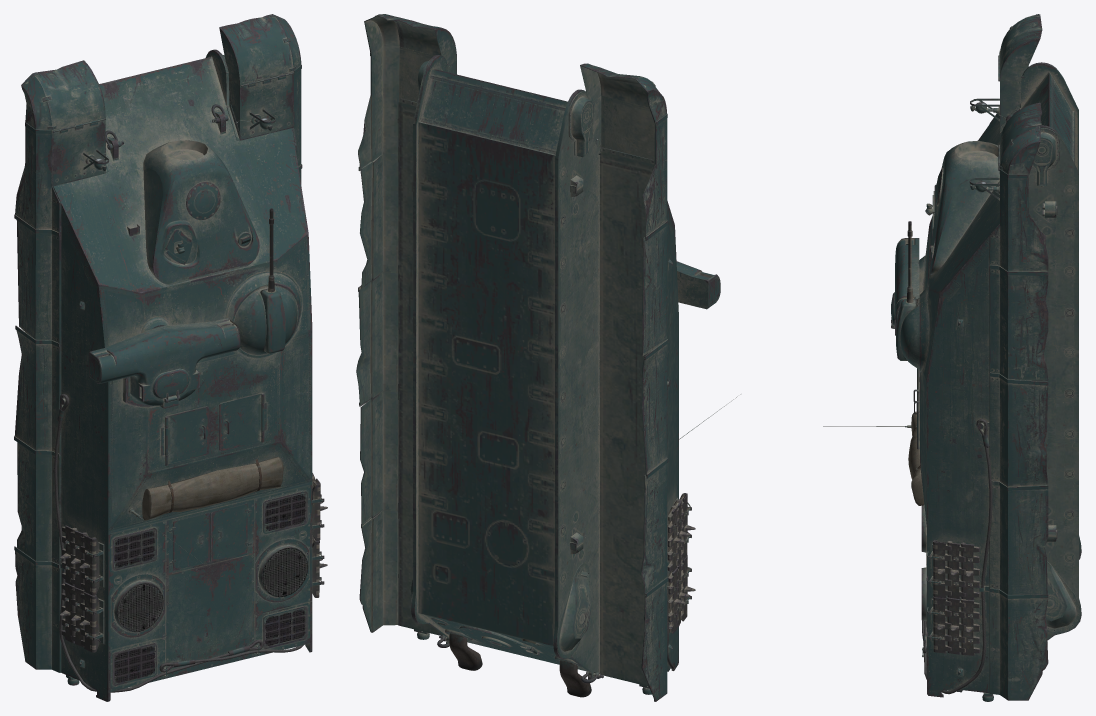
Rendered from Hull.glb.
The picture shows the model from 3 angles, left to right: view 1: azimuth 30°, elevation 25°; view 2: azimuth 150°, elevation 25°; view 3: azimuth 270°, elevation 25°; orthographic projection. The views are drawn at different scales.
Parts seen in each view (by area): view 1: set_0_group_0; view 2: set_0_group_0; view 3: set_0_group_0.
Part boxes in pixels (left/top/right/bottom): set_0_group_0: left=14, top=14, right=327, bottom=701; set_0_group_0: left=356, top=14, right=740, bottom=701; set_0_group_0: left=823, top=14, right=1081, bottom=701.
Bounding box in the file's own units: 3.67 × 7.78 × 3.74.
1 material, 1 textured.
